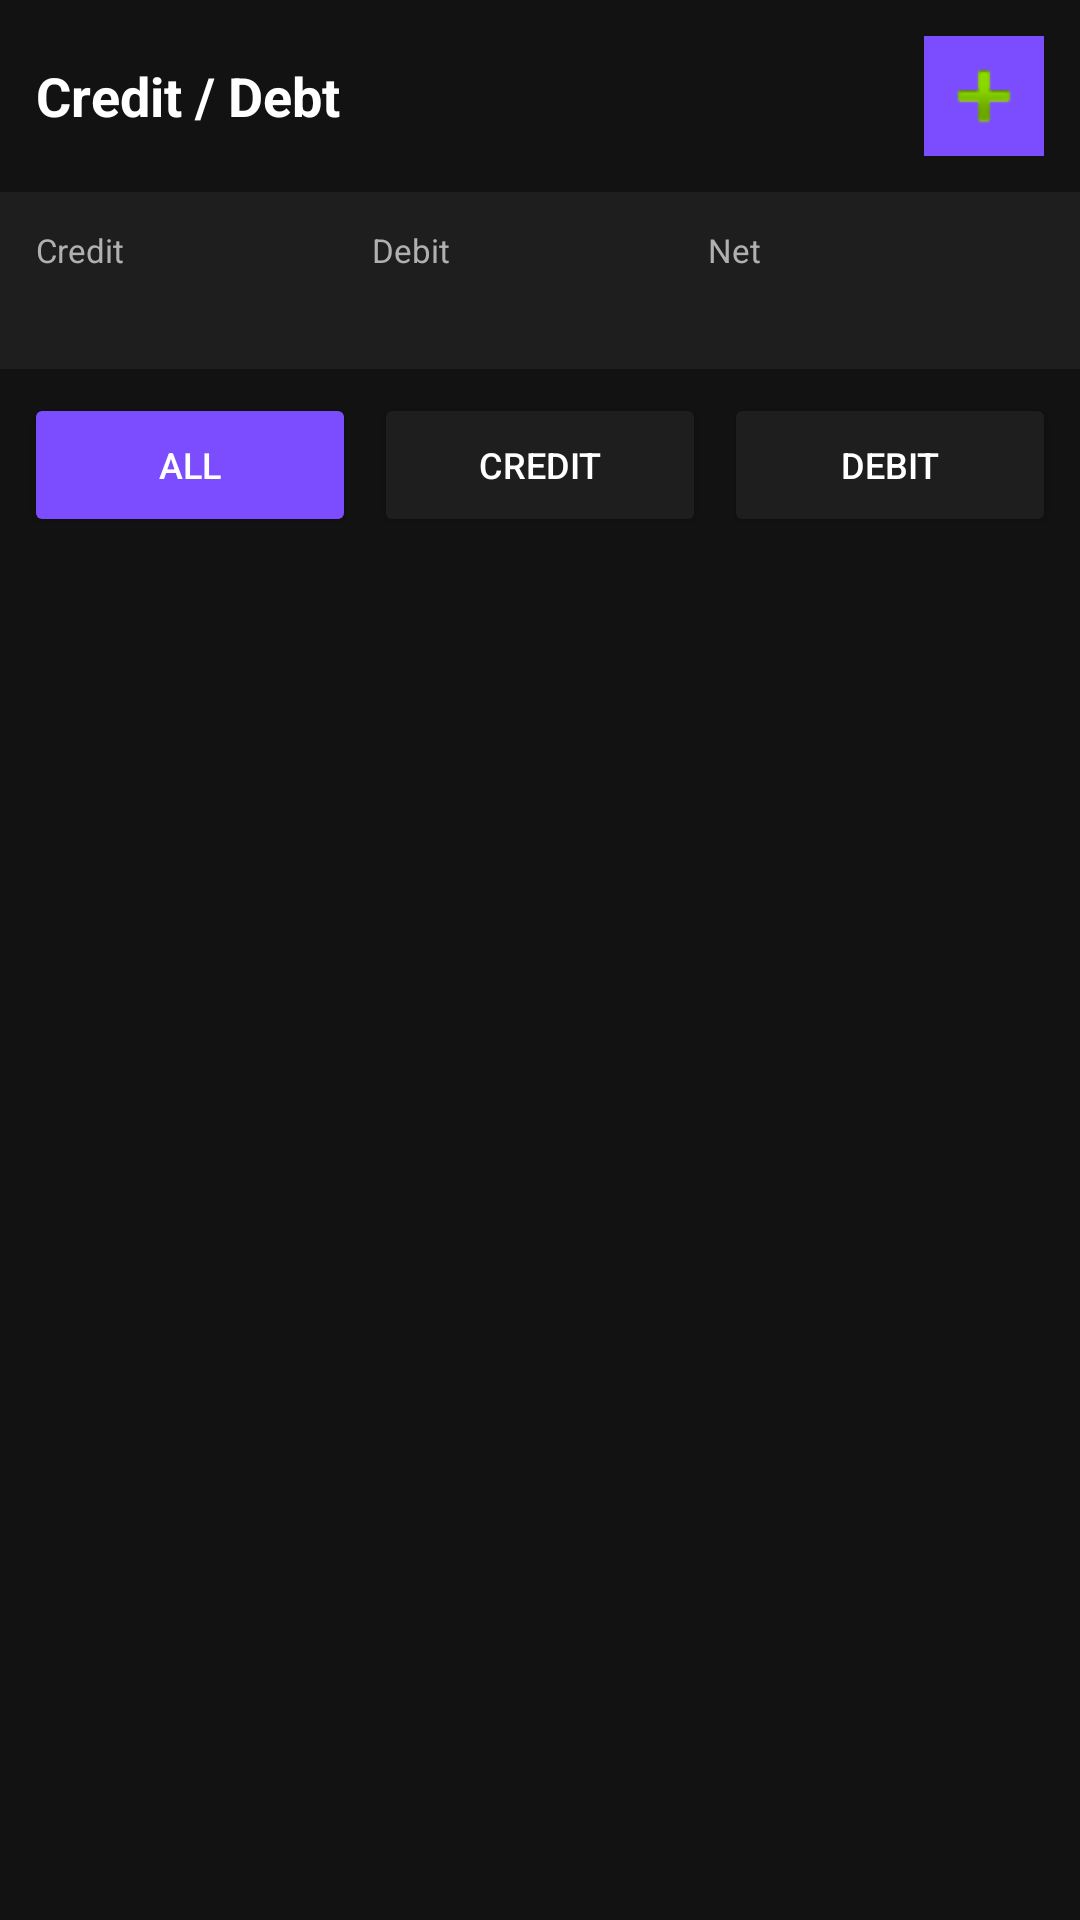

Named icons in this screenshot (1080px x 1920px) and their centers, [x,y]:
Add entry: [984,96]
